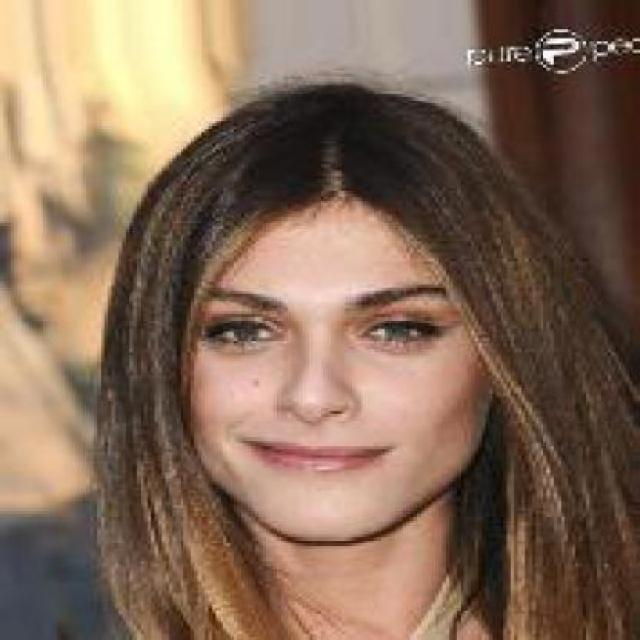closed-mouth: (238, 428, 394, 482)
